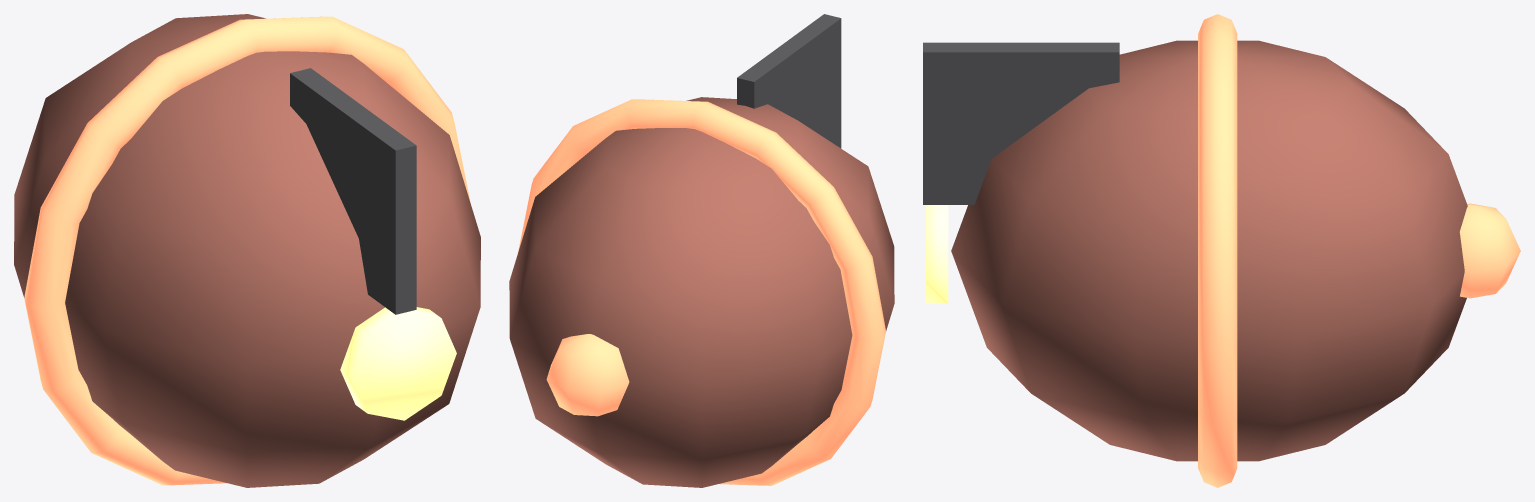
Rendered from splitterteil.glb.
3 renders of one model, left to right at view 1: azimuth 30°, elevation 25°; view 2: azimuth 150°, elevation 25°; view 3: azimuth 270°, elevation 25°, orthographic. The views are drawn at different scales.
Parts seen in each view (by area): view 1: Kapsel, KapselNaht, Finne, Duese.002; view 2: Kapsel, KapselNaht, Finne, Auge.005; view 3: Kapsel, Finne, KapselNaht, Auge.005, Duese.002.
Part boxes in pixels (bbox=[...]): Kapsel: bbox=[14, 14, 480, 487]; KapselNaht: bbox=[24, 16, 470, 485]; Finne: bbox=[290, 68, 416, 314]; Duese.002: bbox=[340, 307, 456, 420]; Kapsel: bbox=[509, 97, 894, 487]; KapselNaht: bbox=[518, 99, 885, 485]; Finne: bbox=[737, 14, 841, 148]; Auge.005: bbox=[546, 334, 629, 416]; Kapsel: bbox=[951, 40, 1467, 461]; Finne: bbox=[923, 42, 1119, 204]; KapselNaht: bbox=[1198, 14, 1237, 487]; Auge.005: bbox=[1459, 203, 1520, 298]; Duese.002: bbox=[926, 205, 948, 303].
Bounding box in the file's own units: 0.8452 × 0.8452 × 1.06.
